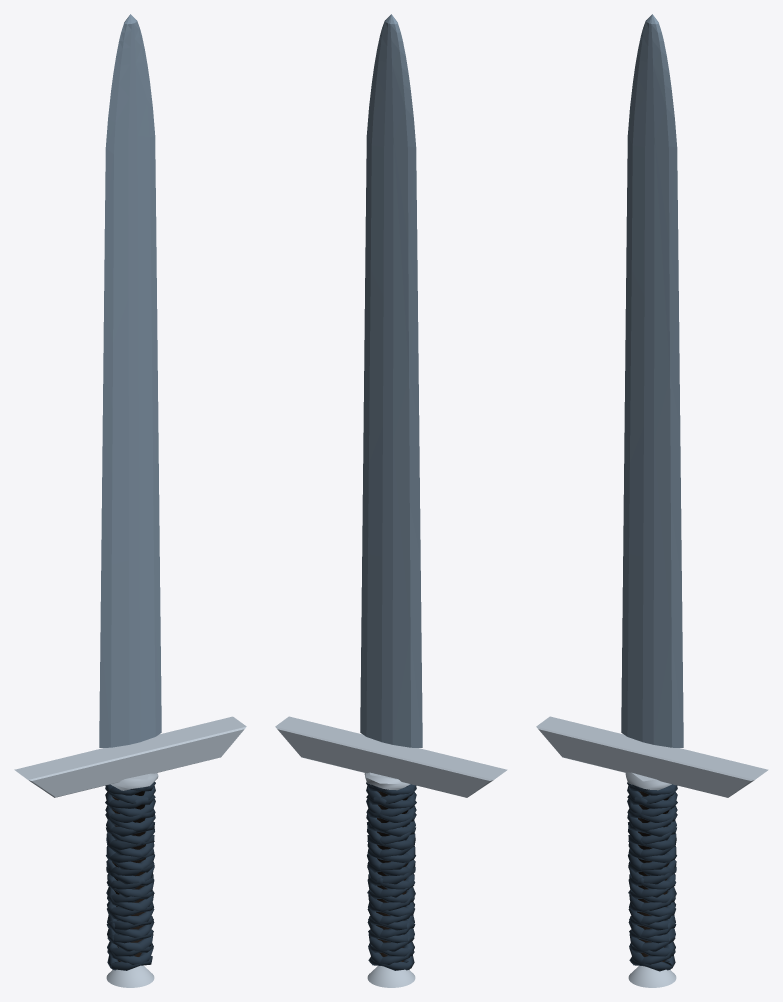
Rendered from suong-som-ben-song.glb.
3 renders of one model, left to right at view 1: azimuth 30°, elevation 25°; view 2: azimuth 150°, elevation 25°; view 3: azimuth 330°, elevation 25°, orthographic.
Visible parts, largest first — view 1: blade, wrap, guard, pommel, grip; view 2: blade, wrap, guard, pommel; view 3: blade, wrap, guard, pommel.
Boxes of the visible parts, x1,y1,x2,y2 form: blade: [99, 14, 161, 747]; wrap: [105, 781, 155, 970]; guard: [14, 716, 246, 797]; pommel: [106, 965, 154, 987]; grip: [112, 791, 145, 961]; blade: [360, 14, 422, 747]; wrap: [366, 782, 416, 970]; guard: [275, 716, 507, 797]; pommel: [367, 965, 415, 987]; blade: [621, 14, 683, 747]; wrap: [627, 782, 677, 971]; guard: [536, 716, 768, 797]; pommel: [628, 965, 676, 987].
Size of the model in its own units: 0.3154 by 1.33 by 0.0688.
